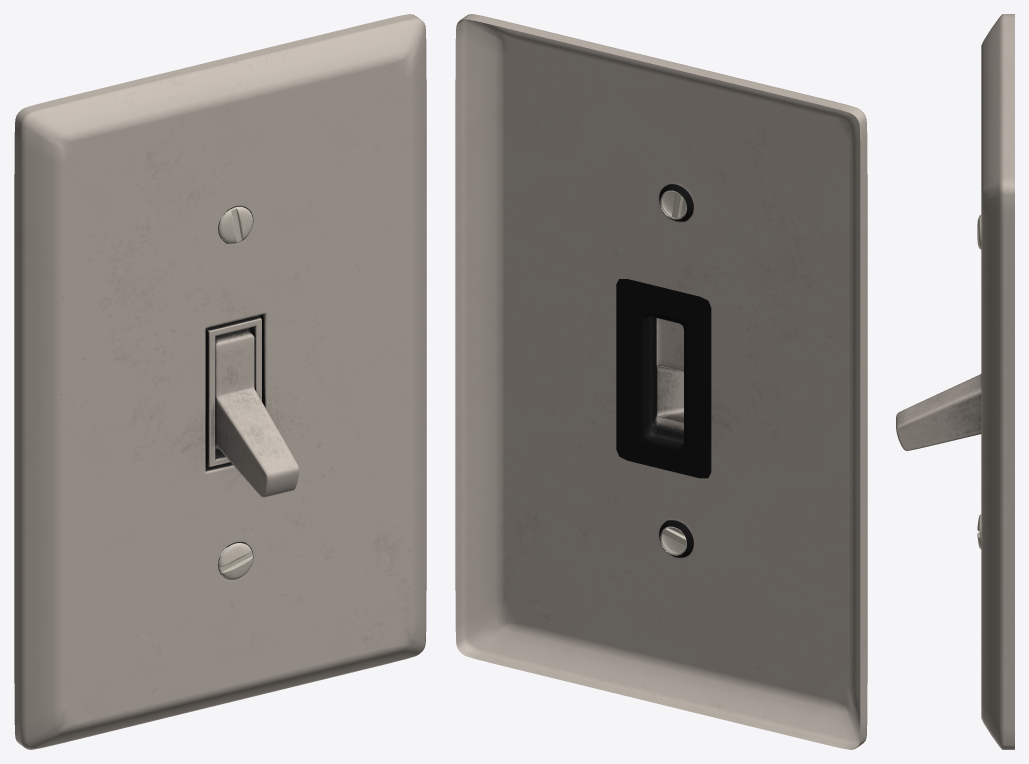
The picture shows the model from 3 angles, left to right: view 1: azimuth 30°, elevation 25°; view 2: azimuth 150°, elevation 25°; view 3: azimuth 270°, elevation 25°; orthographic projection. The views are drawn at different scales.
Visible parts, largest first — view 1: kaiguan_1; view 2: kaiguan_1; view 3: kaiguan_1.
Boxes of the visible parts, <box> form: kaiguan_1: <box>14,14,426,749</box>; kaiguan_1: <box>455,14,867,749</box>; kaiguan_1: <box>896,14,1014,749</box>.
Bounding box in the file's own units: 0.0523 × 0.0788 × 0.0149.
Materials: 1 (1 with a texture image).
